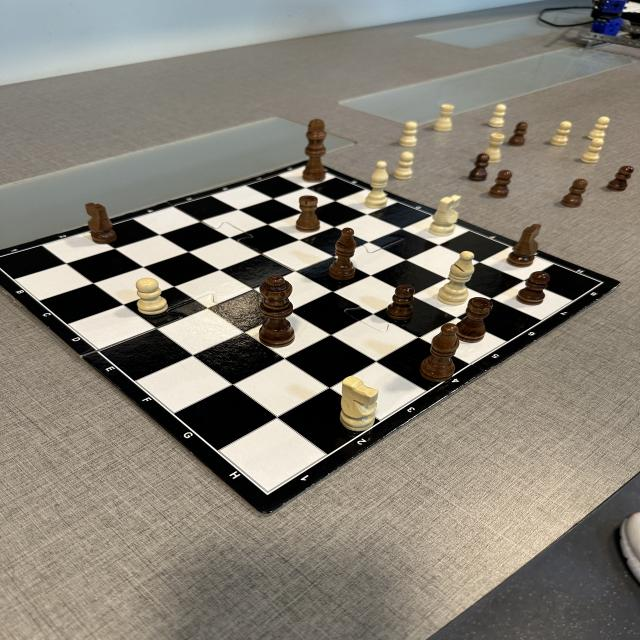Black-Bishop: (420, 324, 460, 381), (329, 228, 357, 280)
Black-King: (302, 119, 326, 182)
Black-Knight: (506, 224, 541, 267), (86, 202, 116, 244)
Black-Pawn: (515, 271, 550, 305), (386, 284, 415, 320), (561, 179, 587, 208), (607, 166, 634, 192), (488, 170, 512, 198), (468, 154, 489, 180), (508, 122, 528, 148)
Black-Queen: (259, 276, 292, 346)
Black-Rook: (456, 297, 493, 343), (296, 196, 320, 232)
White-Bishop: (438, 251, 474, 305), (365, 162, 389, 208)
White-Knight: (340, 377, 379, 431), (430, 194, 460, 237)
White-Pawn: (136, 278, 168, 315), (580, 138, 604, 164), (392, 152, 413, 180), (588, 116, 609, 140), (551, 122, 571, 146), (400, 122, 417, 148), (488, 105, 506, 128)
White-Rook: (484, 133, 505, 164), (433, 104, 455, 132)
